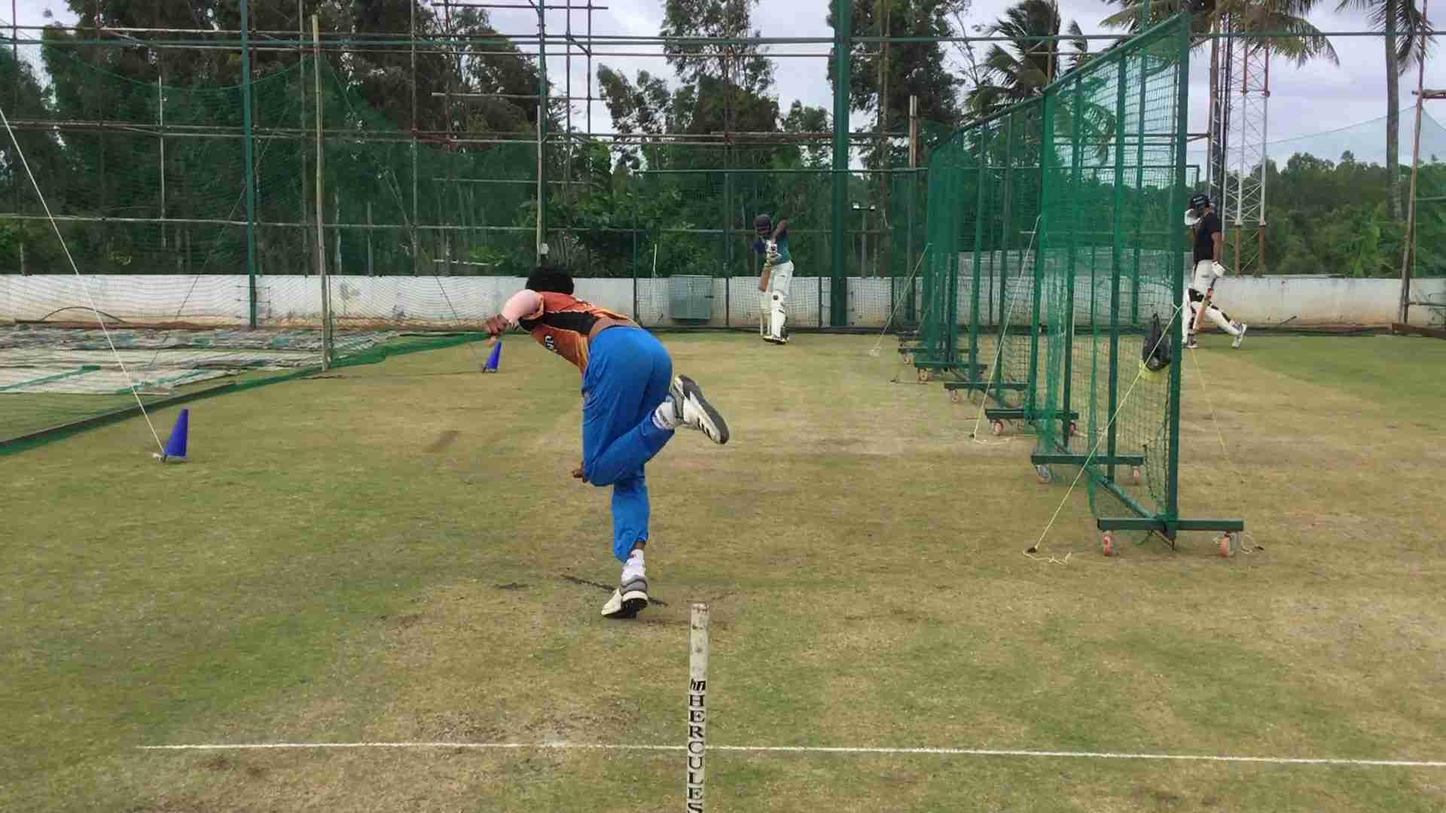batsman: (749, 201, 803, 349)
